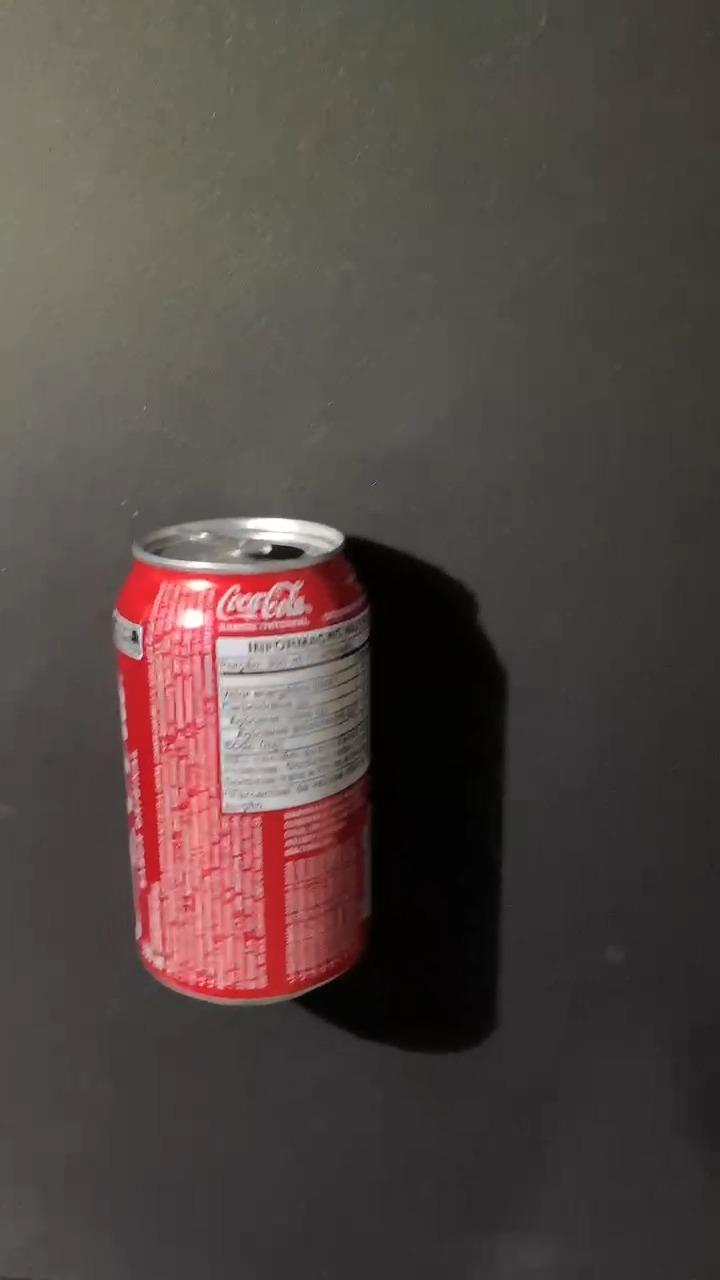coke: (110, 516, 376, 1004)
